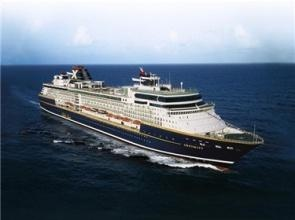youlun: (37, 60, 267, 164)
